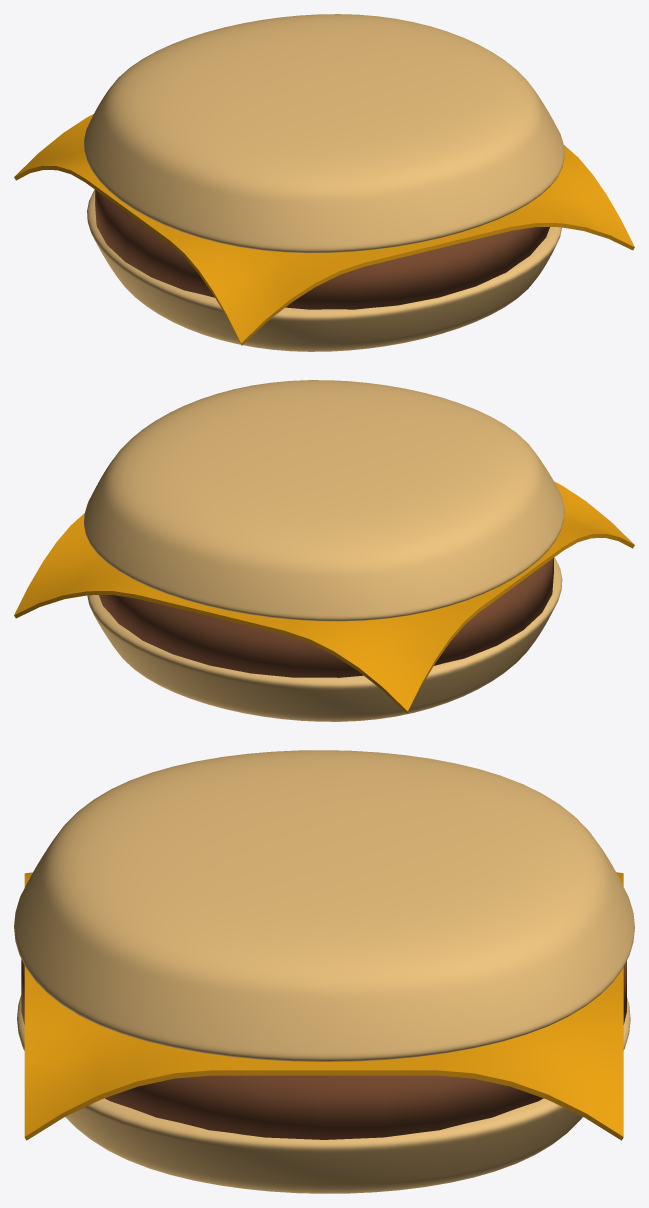
The model's file is hamburger.glb.
The picture shows the model from 3 angles, top to bottom: view 1: azimuth 30°, elevation 25°; view 2: azimuth 150°, elevation 25°; view 3: azimuth 270°, elevation 25°; orthographic projection. The views are drawn at different scales.
Parts seen in each view (by area): view 1: Cube.002, Plane, Cube, Cylinder; view 2: Cube.002, Plane, Cube, Cylinder; view 3: Cube.002, Plane, Cube, Cylinder.
Part boxes in pixels (x1=…): Cube.002: x1=84, y1=14, x2=564, y2=253; Plane: x1=14, y1=114, x2=634, y2=345; Cube: x1=87, y1=190, x2=561, y2=351; Cylinder: x1=95, y1=190, x2=549, y2=309; Cube.002: x1=84, y1=380, x2=564, y2=621; Plane: x1=14, y1=481, x2=634, y2=713; Cube: x1=87, y1=557, x2=562, y2=721; Cylinder: x1=99, y1=558, x2=553, y2=677; Cube.002: x1=14, y1=750, x2=634, y2=1061; Plane: x1=24, y1=872, x2=623, y2=1140; Cube: x1=17, y1=995, x2=630, y2=1193; Cylinder: x1=21, y1=959, x2=626, y2=1139.
Size of the model in its own units: 8.61 by 4.08 by 8.61.
